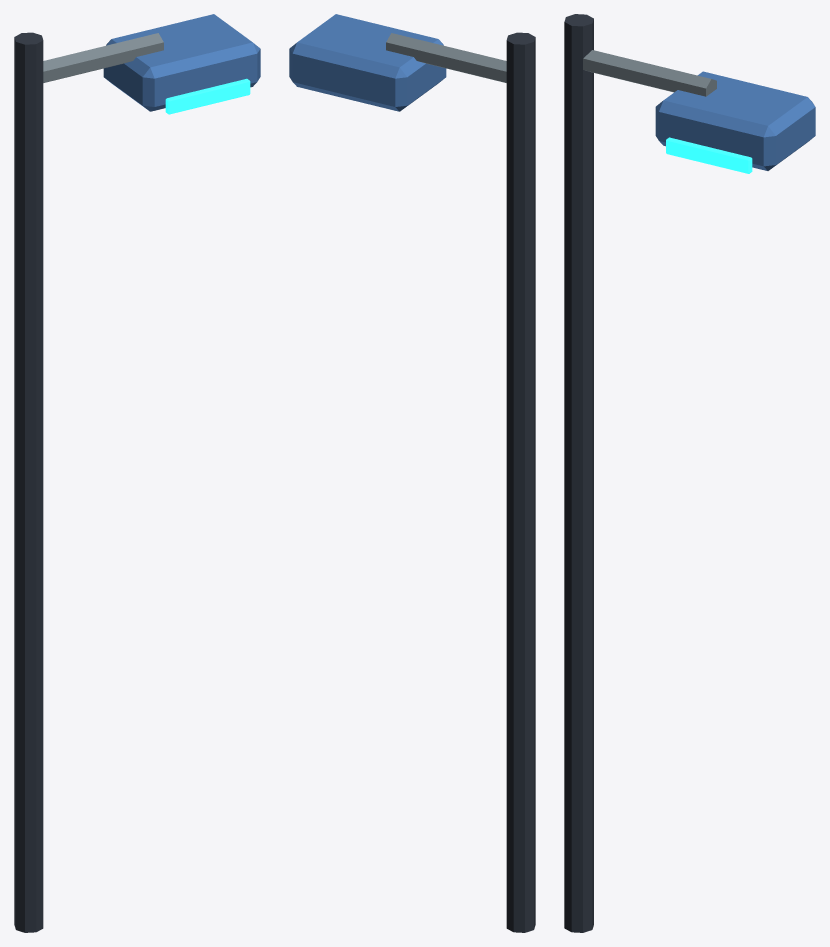
The model's file is street_028_seed11.glb.
The picture shows the model from 3 angles, left to right: view 1: azimuth 30°, elevation 25°; view 2: azimuth 150°, elevation 25°; view 3: azimuth 330°, elevation 25°; orthographic projection. The views are drawn at different scales.
Visible parts, largest first — view 1: street_028_seed11; view 2: street_028_seed11; view 3: street_028_seed11.
Part boxes in pixels (bbox=[...]): street_028_seed11: bbox=[14, 14, 260, 932]; street_028_seed11: bbox=[289, 14, 535, 932]; street_028_seed11: bbox=[564, 14, 815, 932].
Bounding box in the file's own units: 0.955 × 3.6 × 0.3775.
